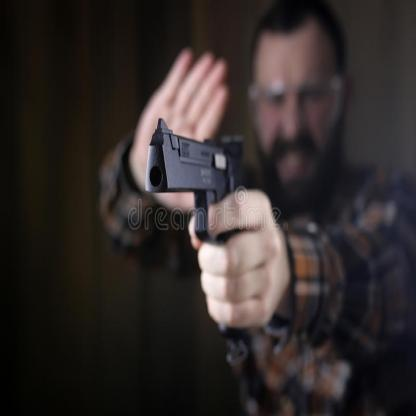handgun: (147, 112, 256, 251)
